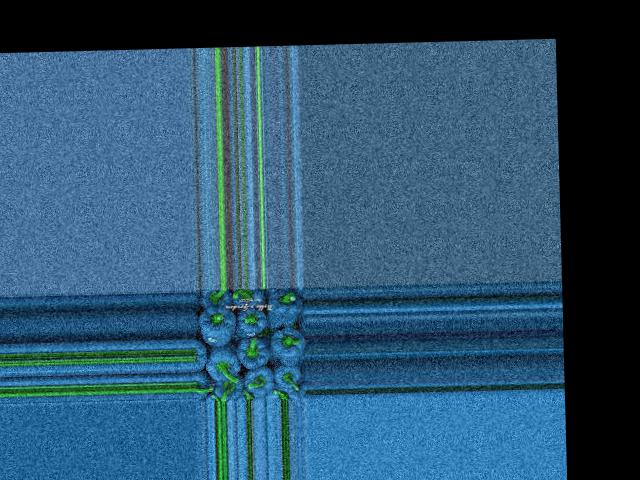bell_pepper: (195, 288, 234, 312)
